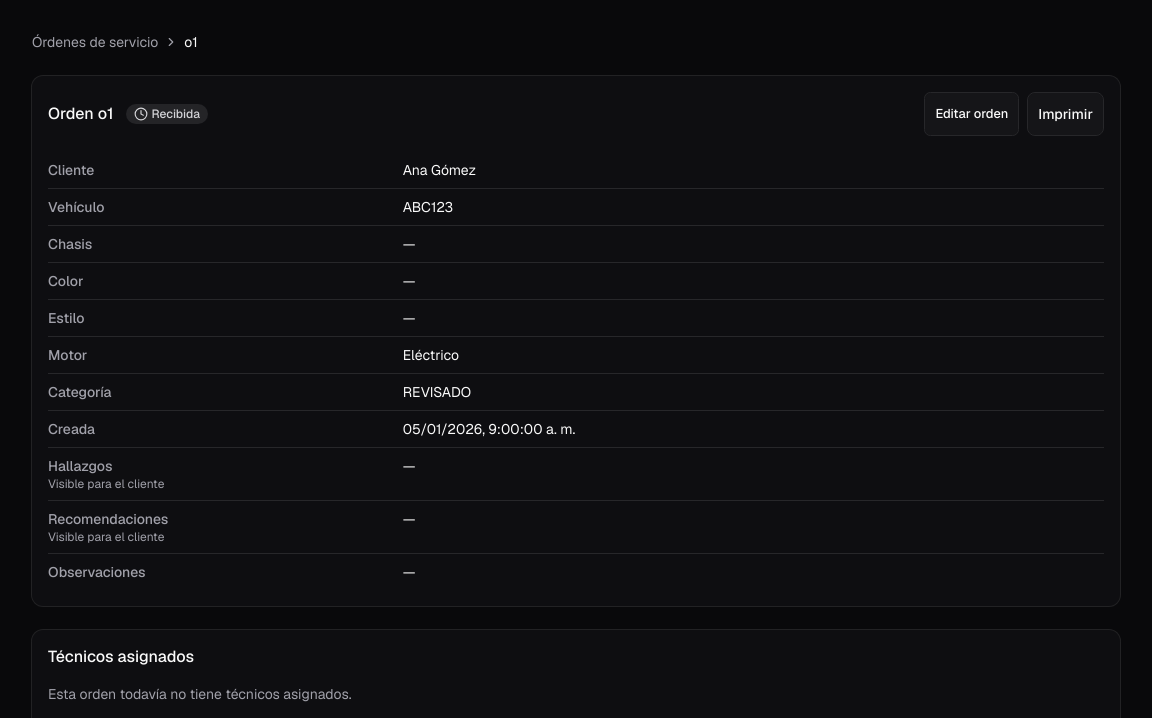
Test case: ServiceOrderDetailPage — Recepción card › hands the vehicle's motor to the edit form
Click the button "Editar orden" at (972, 114), box [924, 92, 1019, 136]
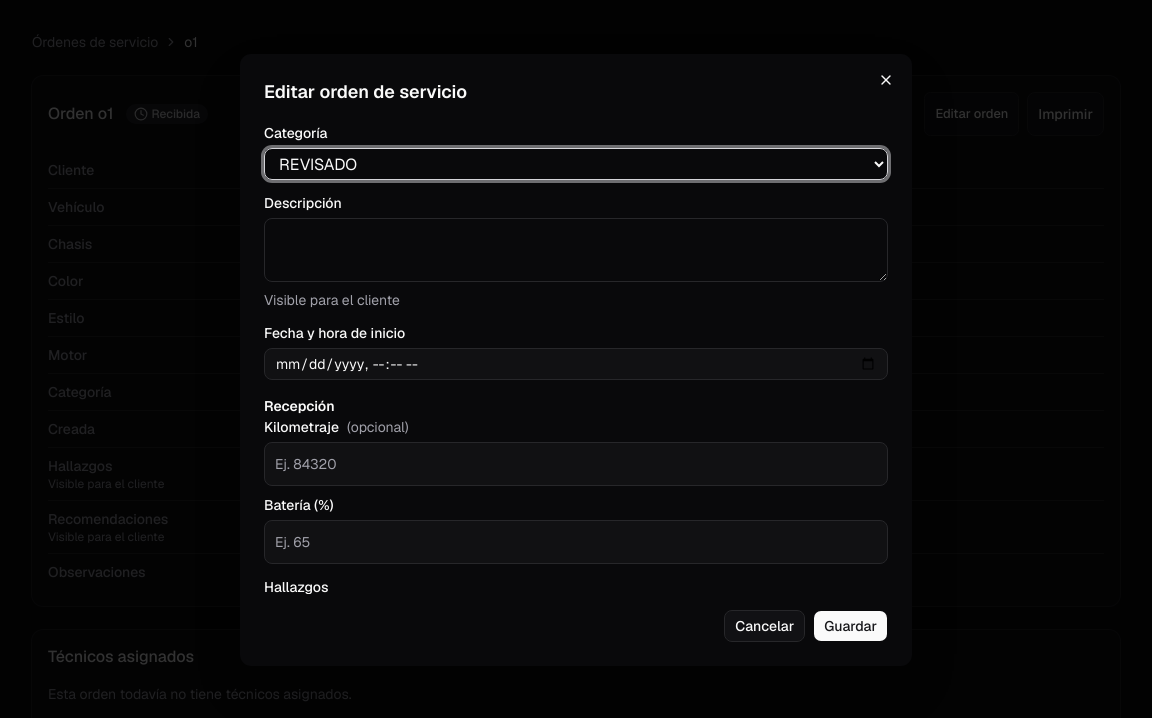
Now the number field labelled "Batería (%)" is shown, box [264, 520, 888, 564]
